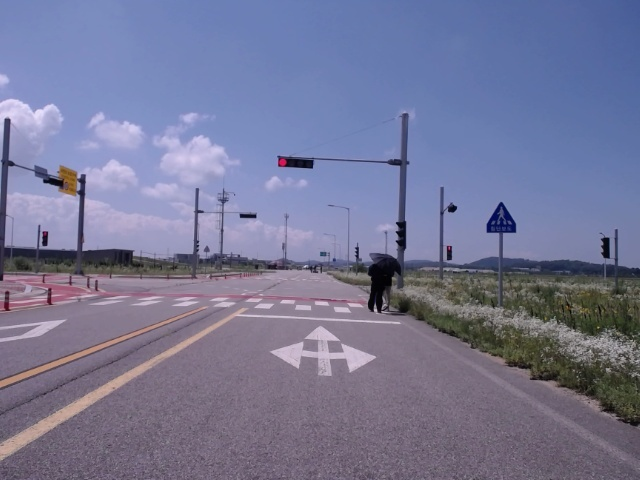red_4: (278, 158, 313, 168)
